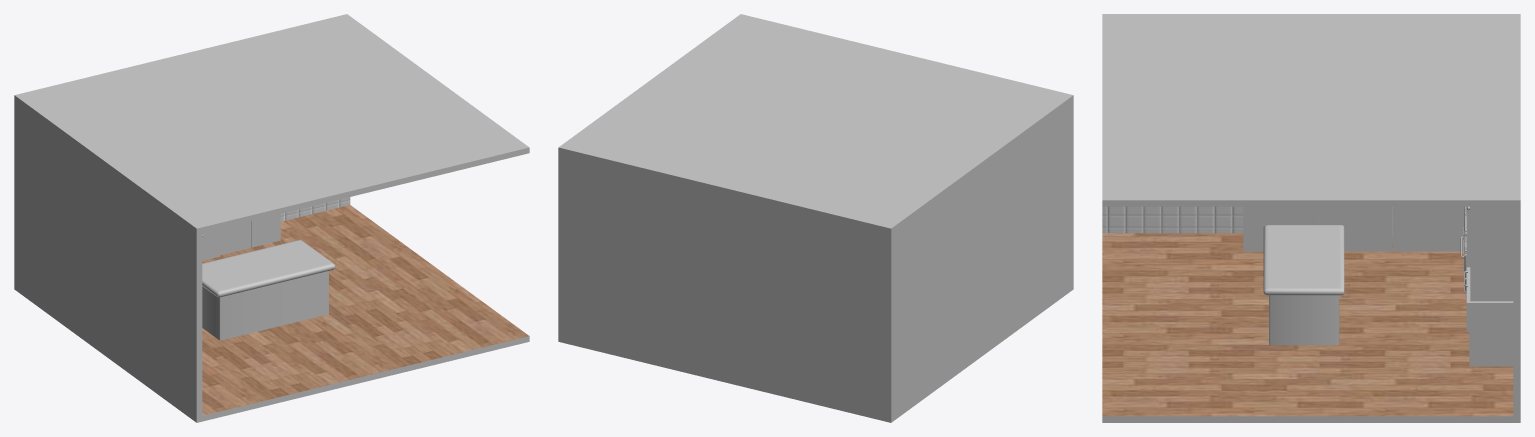
File: Kitchen.fbx
3 renders of one model, left to right at view 1: azimuth 30°, elevation 25°; view 2: azimuth 150°, elevation 25°; view 3: azimuth 270°, elevation 25°, orthographic. The views are drawn at different scales.
Visible parts, largest first — view 1: KitchenRoom, Ada_mutfak, Kitchen, Fridge; view 2: KitchenRoom; view 3: KitchenRoom, Kitchen, Ada_mutfak, Fridge.
Part boxes in pixels (left/top/right/bottom): KitchenRoom: left=14, top=14, right=529, bottom=422; Ada_mutfak: left=202, top=240, right=335, bottom=340; Kitchen: left=220, top=214, right=280, bottom=254; Fridge: left=202, top=228, right=220, bottom=260; KitchenRoom: left=558, top=14, right=1073, bottom=422; KitchenRoom: left=1102, top=14, right=1520, bottom=422; Kitchen: left=1243, top=206, right=1513, bottom=366; Ada_mutfak: left=1263, top=225, right=1344, bottom=345; Fridge: left=1464, top=209, right=1470, bottom=332.
Bounding box in the file's own units: 930 × 882 × 519.
